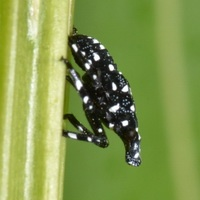insect: (61, 28, 140, 165)
